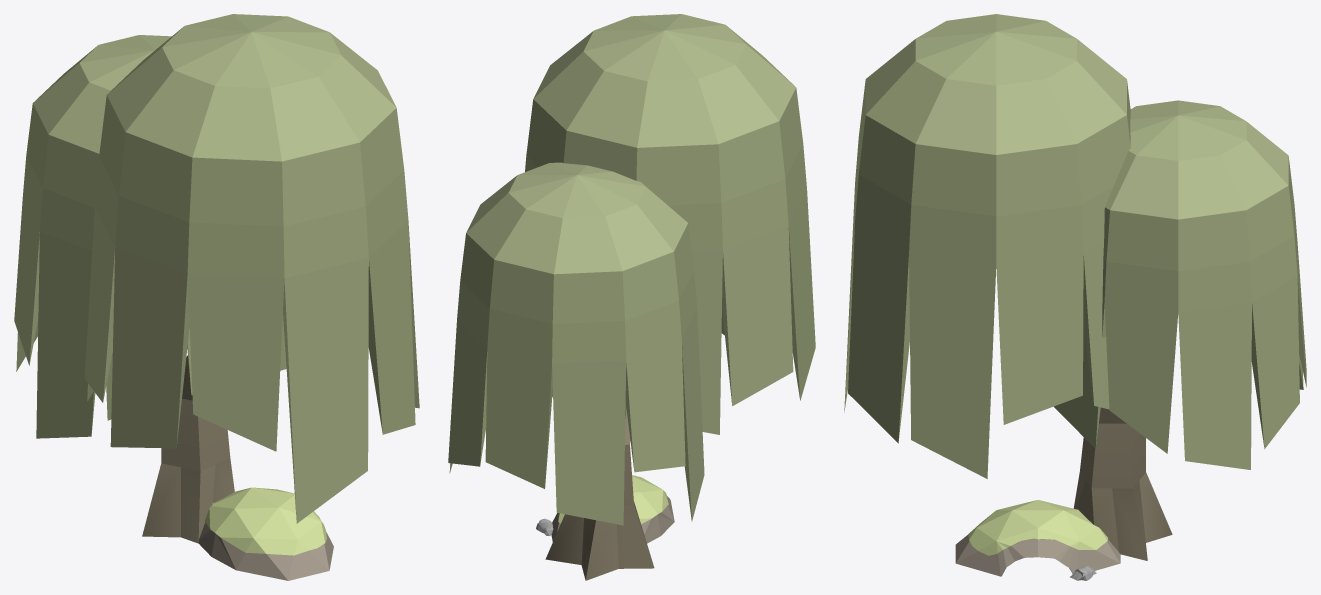
The model's file is WillowDwelling.fbx.
3 renders of one model, left to right at view 1: azimuth 30°, elevation 25°; view 2: azimuth 150°, elevation 25°; view 3: azimuth 270°, elevation 25°, orthographic. The views are drawn at different scales.
Parts seen in each view (by area): view 1: Willow_Dwelling; view 2: Willow_Dwelling; view 3: Willow_Dwelling.
Boxes of the visible parts, <box> form: Willow_Dwelling: <box>14,14,419,580</box>; Willow_Dwelling: <box>448,14,815,580</box>; Willow_Dwelling: <box>844,14,1306,580</box>.
Size of the model in its own units: 16.02 by 28.29 by 23.45.
